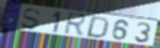1: (51, 11, 63, 34)
3: (133, 22, 152, 44)
6: (110, 19, 130, 41)
D: (84, 15, 111, 39)
R: (63, 11, 89, 38)
S: (20, 8, 43, 31)
